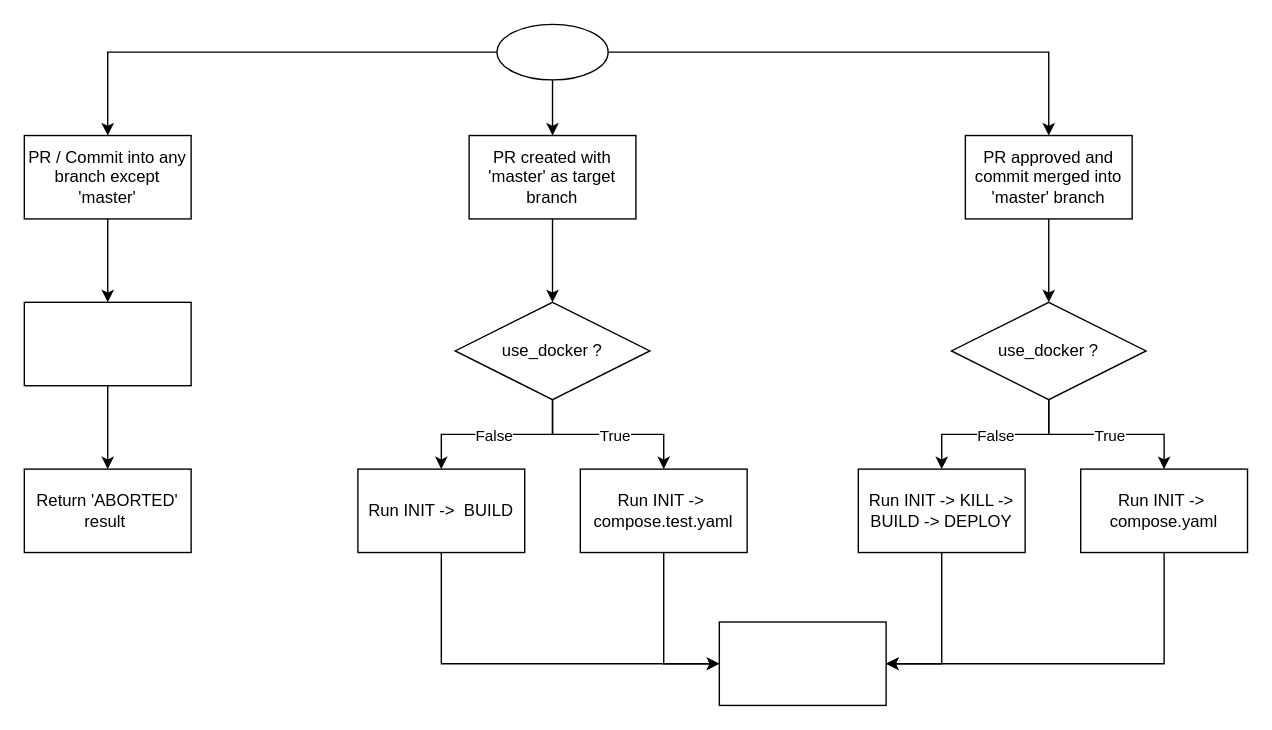
Image size: 1272x730. Some labels were removed from this diagram. Here are the shapes that lost their labels. From the top down, the centre of each, then its label:
the point at 552,51: CI/CD
the point at 107,343: Abort Jenkins Build
the point at 802,663: Return 'PASSED' / 'FAILED' result
